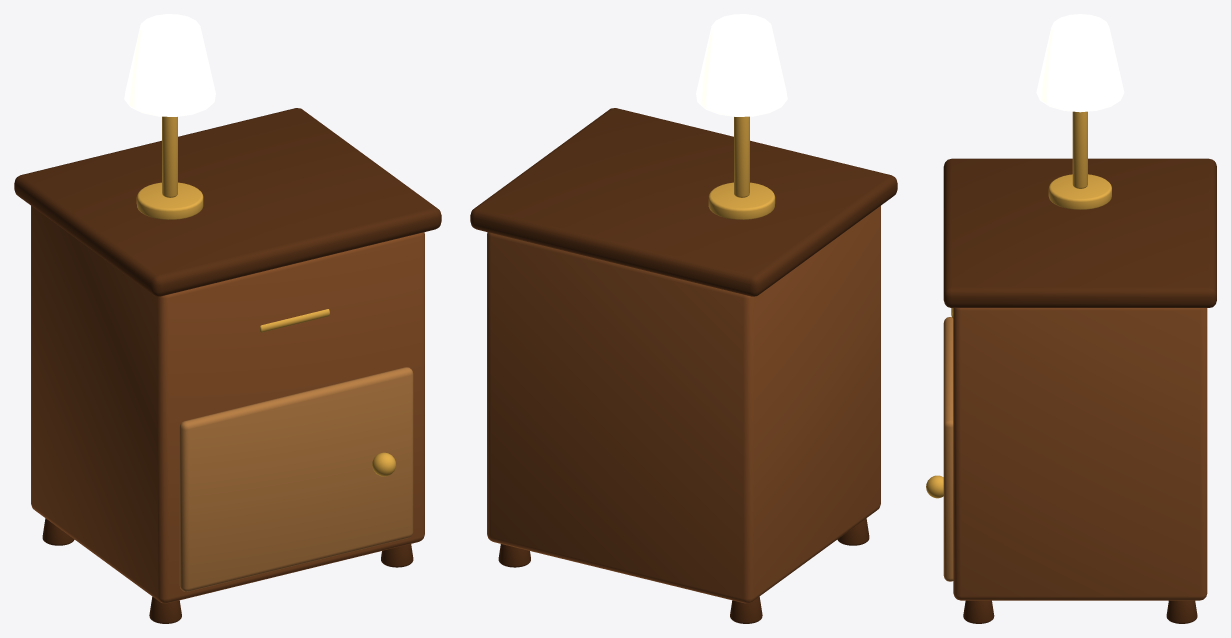
Rendered from nightstand.glb.
3 renders of one model, left to right at view 1: azimuth 30°, elevation 25°; view 2: azimuth 150°, elevation 25°; view 3: azimuth 270°, elevation 25°, orthographic. The views are drawn at different scales.
Parts seen in each view (by area): view 1: nightstand; view 2: nightstand; view 3: nightstand.
Boxes of the visible parts, <box> form: nightstand: <box>14,14,441,623</box>; nightstand: <box>470,14,897,623</box>; nightstand: <box>926,14,1216,623</box>.
Bounding box in the file's own units: 0.5 × 0.89 × 0.458.
